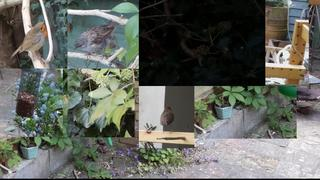dunnock: (73, 20, 119, 61)
robin: (9, 20, 48, 61), (160, 106, 174, 134)
